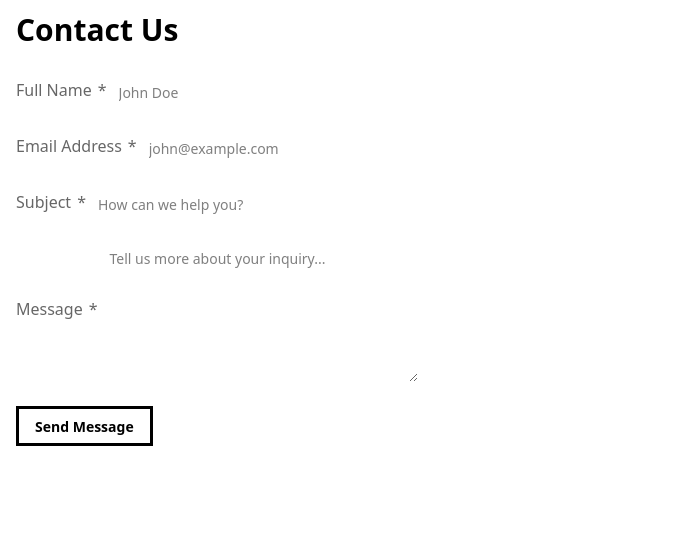
it: ContactForm › Rendering › Form Validation › should show validation errors on invalid input
Note: Enter invalid name (too short)
Step 1. Type "J" into the field labelled "Full Name *" → (267, 92), box [107,72,427,112]
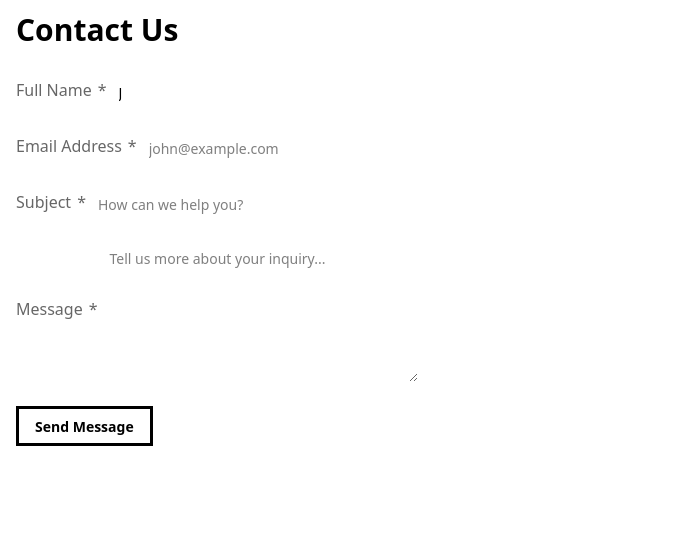
Note: Try to submit with invalid data
Step 2. Click the button "Send Message" → (84, 426), box [16,406,153,446]
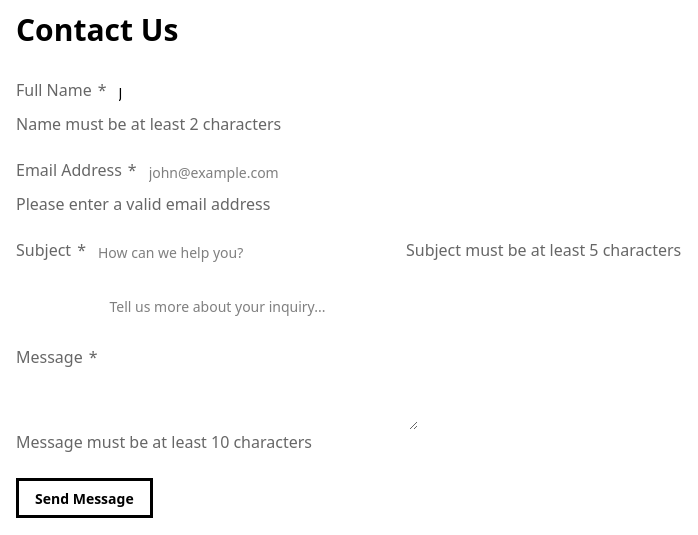
Now the text "Name must be at least 2 characters" is shown, box [16,112,281,136]
